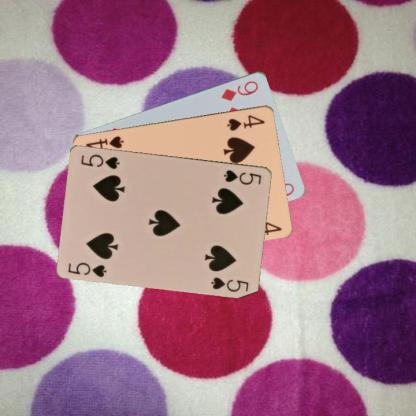4s: (224, 112, 266, 132)
5s: (221, 167, 263, 186), (65, 260, 108, 278)
9d: (218, 78, 260, 102)
